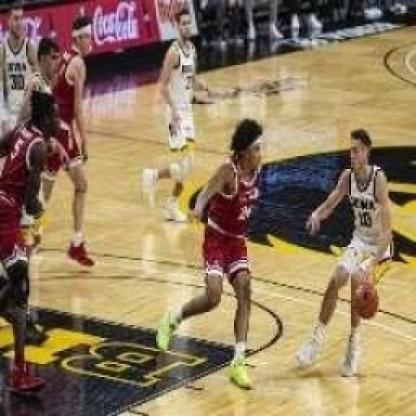basketball: (351, 282, 380, 320)
